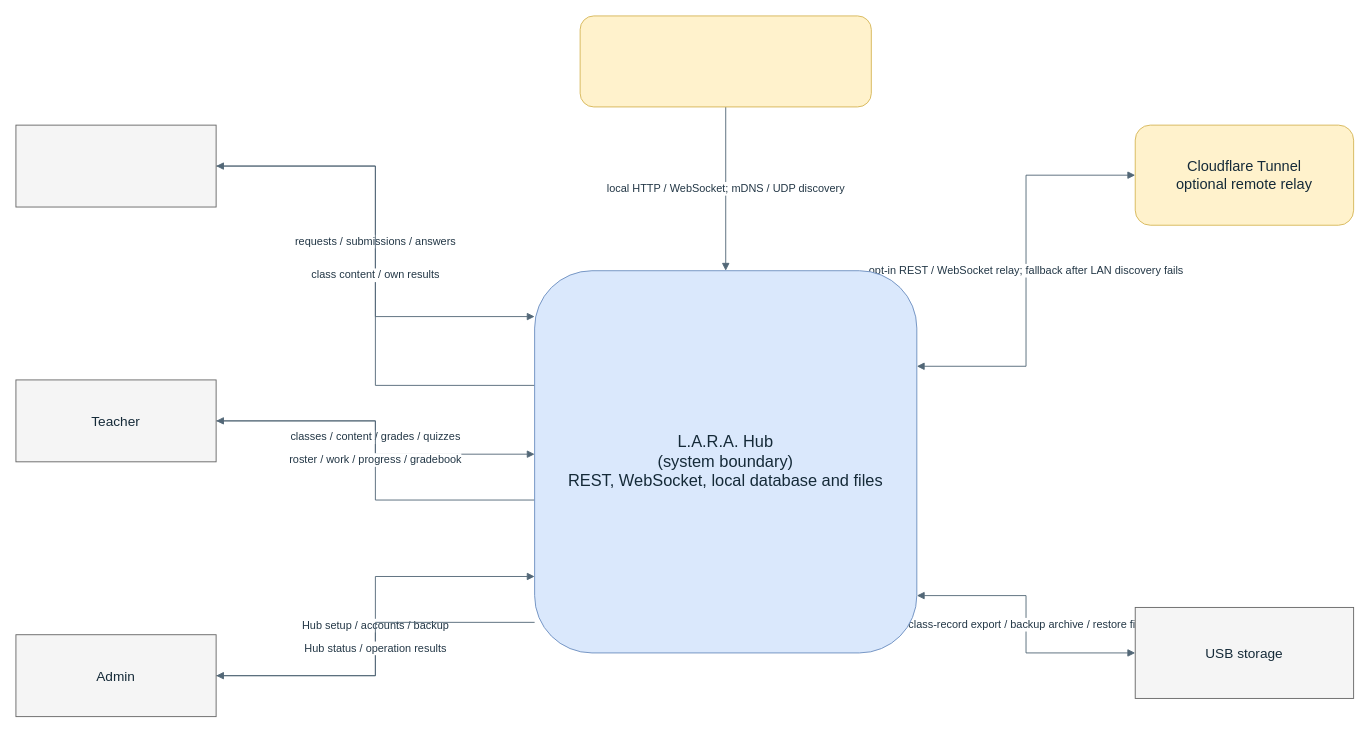
This 1370x733 diagram has some shape labels left out. The shapes that lost their labels are listed below. From the top down, each one's centre as x and y in pixels, then its label:
At (725,61): "Classroom router / LAN local transport".
At (115,165): "Learner".
